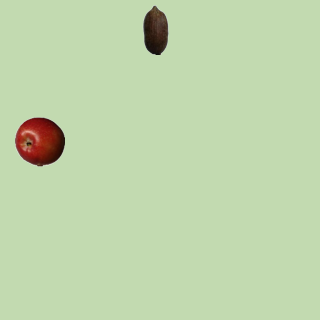Apple Braeburn: (14, 116, 64, 166)
Nut Pecan: (130, 4, 180, 54)
